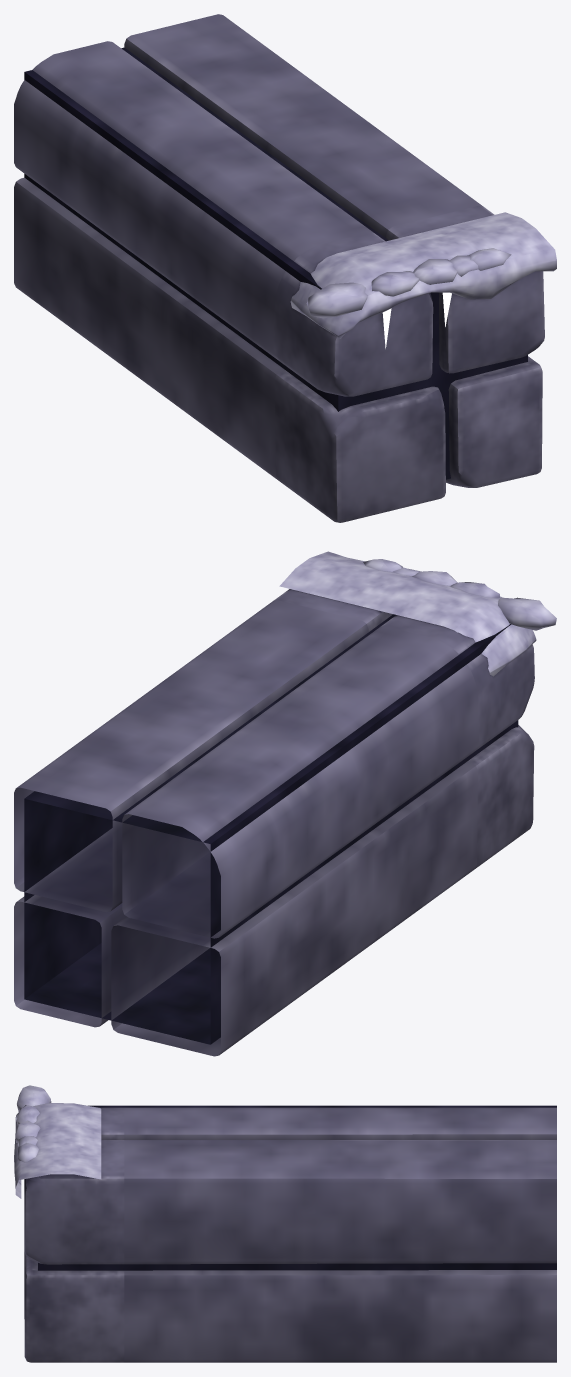
File: Promenade_Edge_L.fbx
3 views of the same model, one above another, from view 1: azimuth 30°, elevation 25°; view 2: azimuth 150°, elevation 25°; view 3: azimuth 270°, elevation 25° (orthographic). The views are drawn at different scales.
Visible parts, largest first — view 1: Promenade_Edge_L; view 2: Promenade_Edge_L; view 3: Promenade_Edge_L.
Part boxes in pixels (box(x1,y1,x2,y2)): Promenade_Edge_L: box(14, 14, 556, 522); Promenade_Edge_L: box(14, 551, 556, 1056); Promenade_Edge_L: box(14, 1085, 556, 1362).
Bounding box in the file's own units: 1.09 × 1.03 × 2.57.
